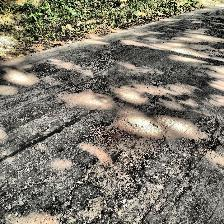pothole: (86, 116, 166, 198)
